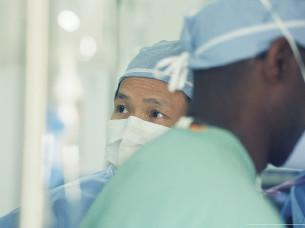OK: (104, 91, 193, 180)
